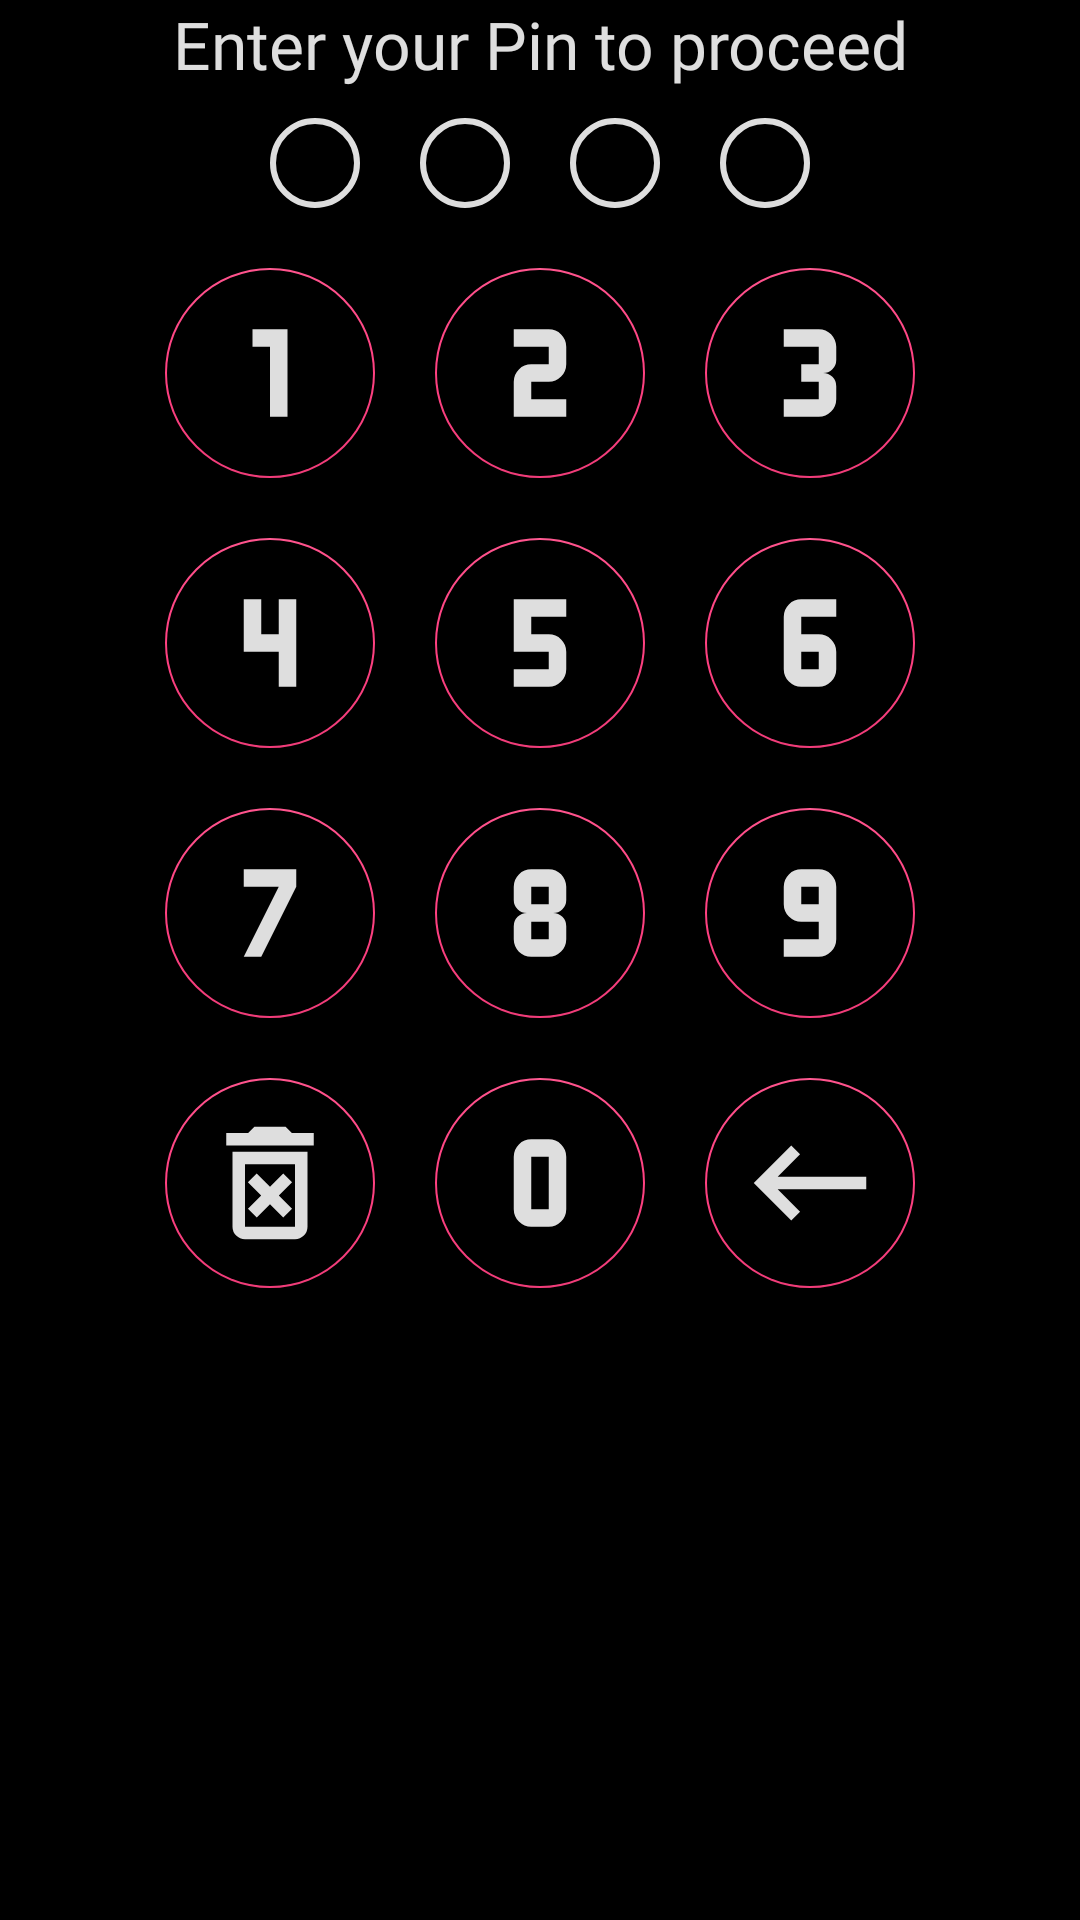

Locate icon controls on the screen. Image size 1080px×1920px, boxes as bbox=(x1, y1, x2, y2).
backspace: bbox=(705, 1078, 915, 1288)
delete: bbox=(165, 1078, 375, 1288)
